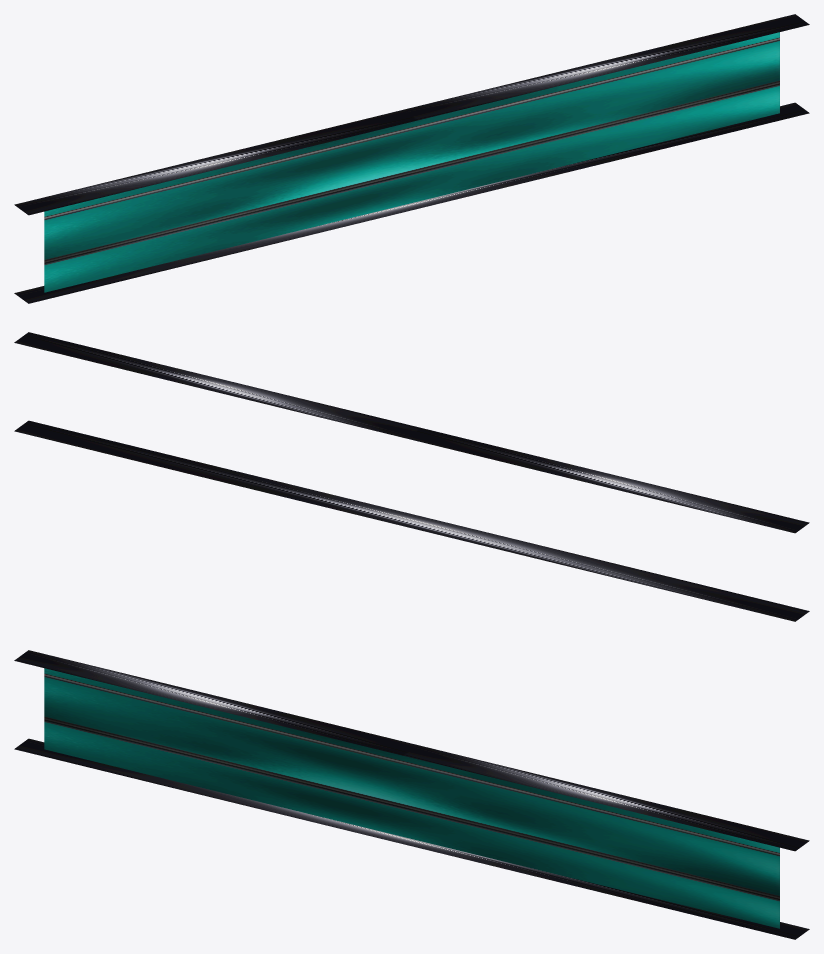
The model's file is Geländer3 [Minstry]_2498.glb.
3 renders of one model, top to bottom at view 1: azimuth 30°, elevation 25°; view 2: azimuth 150°, elevation 25°; view 3: azimuth 330°, elevation 25°, orthographic.
Visible parts, largest first — view 1: pPlaneShape223, pPlaneShape224, pPlaneShape225; view 2: pPlaneShape224, pPlaneShape225; view 3: pPlaneShape223, pPlaneShape224, pPlaneShape225.
Part boxes in pixels (bbox=[...]): pPlaneShape223: bbox=[44, 32, 779, 292]; pPlaneShape224: bbox=[14, 14, 809, 215]; pPlaneShape225: bbox=[14, 102, 809, 303]; pPlaneShape224: bbox=[14, 332, 809, 533]; pPlaneShape225: bbox=[14, 420, 809, 621]; pPlaneShape223: bbox=[44, 668, 779, 928]; pPlaneShape224: bbox=[14, 650, 809, 851]; pPlaneShape225: bbox=[14, 738, 809, 939].
Bounding box in the file's own units: 0.75 × 0.0811 × 0.0243.
3 materials, 3 textured.
